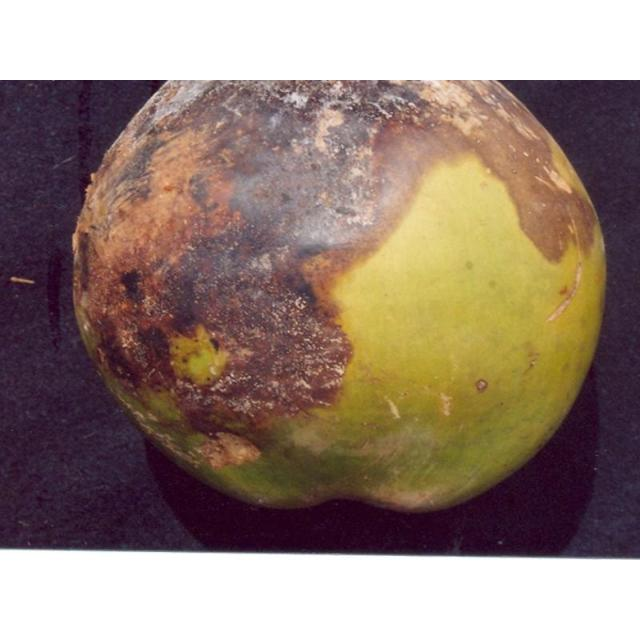damaged: (70, 80, 608, 530)
